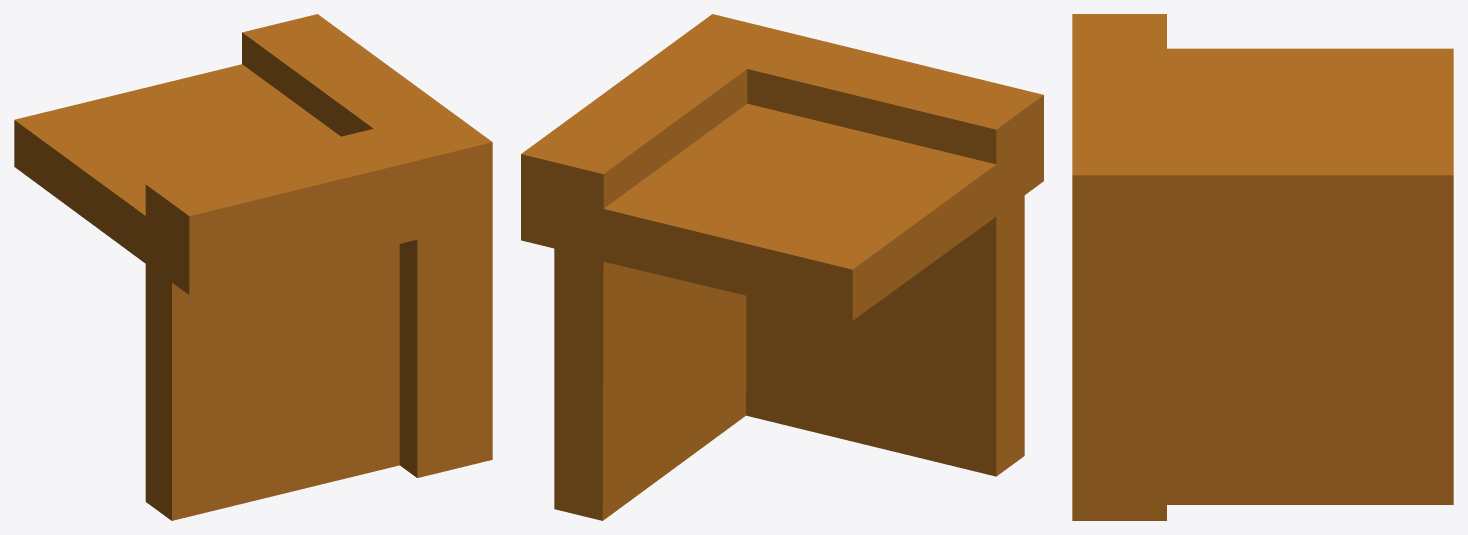
Rendered from Crate01Part.dae.
3 renders of one model, left to right at view 1: azimuth 30°, elevation 25°; view 2: azimuth 150°, elevation 25°; view 3: azimuth 270°, elevation 25°, orthographic. The views are drawn at different scales.
Parts seen in each view (by area): view 1: Crate01.001; view 2: Crate01.001; view 3: Crate01.001.
Boxes of the visible parts, x1,y1,x2,y2 form: Crate01.001: (14,14,492,520); Crate01.001: (521,14,1043,520); Crate01.001: (1072,14,1453,520).
Bounding box in the file's own units: 0.5 × 0.5 × 0.5.
